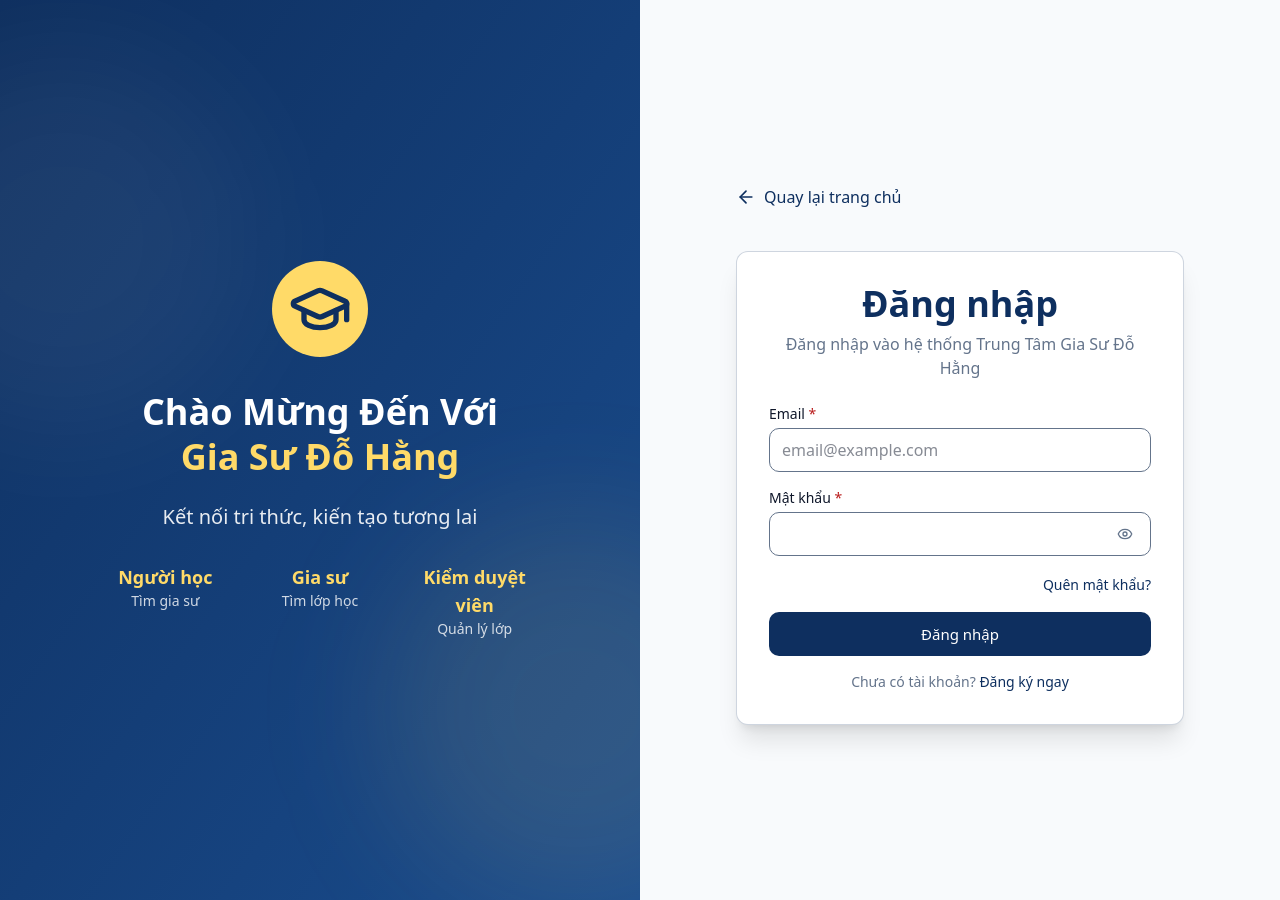
Test: sign-in › shows the server error and keeps the typed email
Type "a@example.com" into the field labelled "Email *" at (960, 450), box [769,428,1151,472]
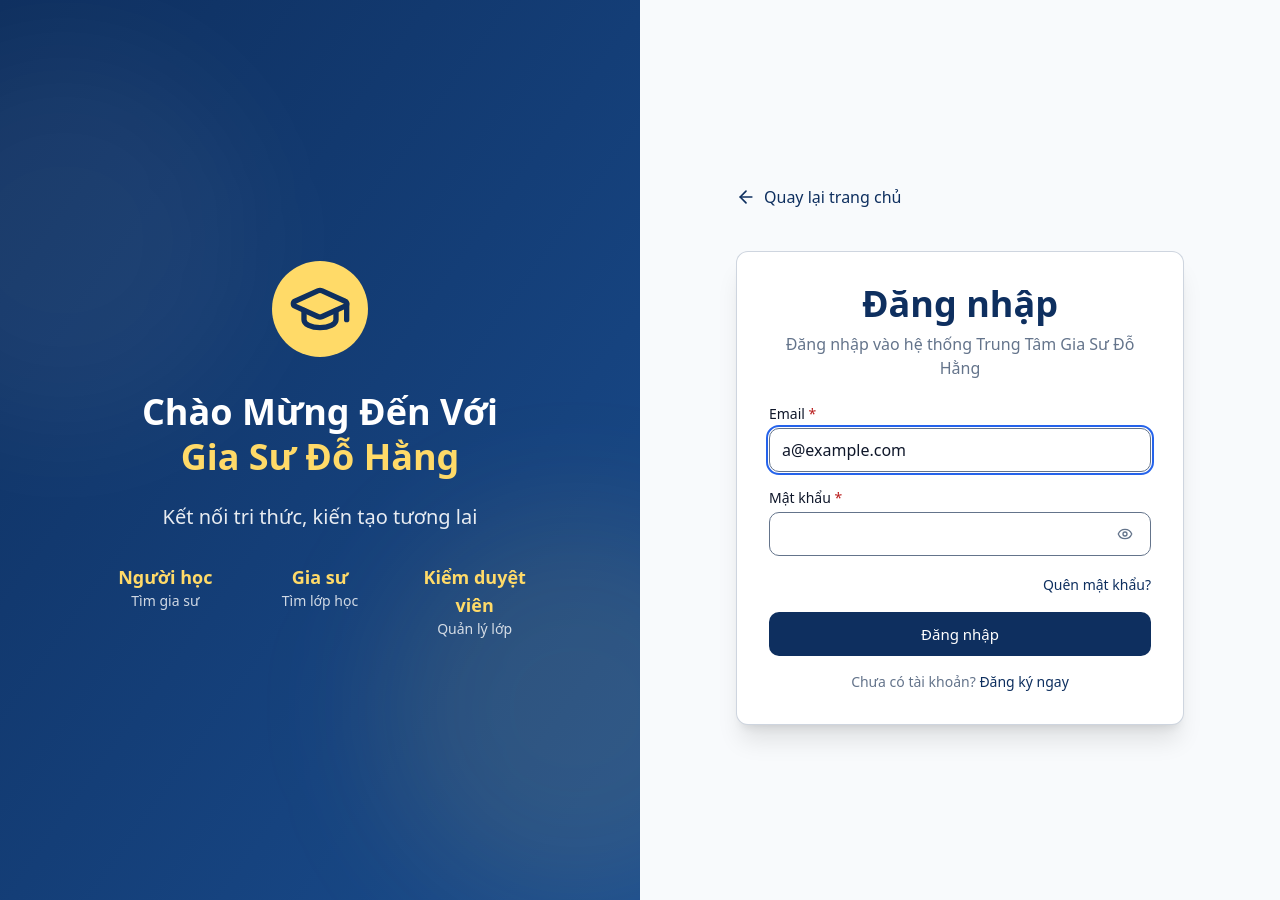
Type "wrong" into the password field labelled "Mật khẩu *" at (960, 534), box [769,512,1151,556]
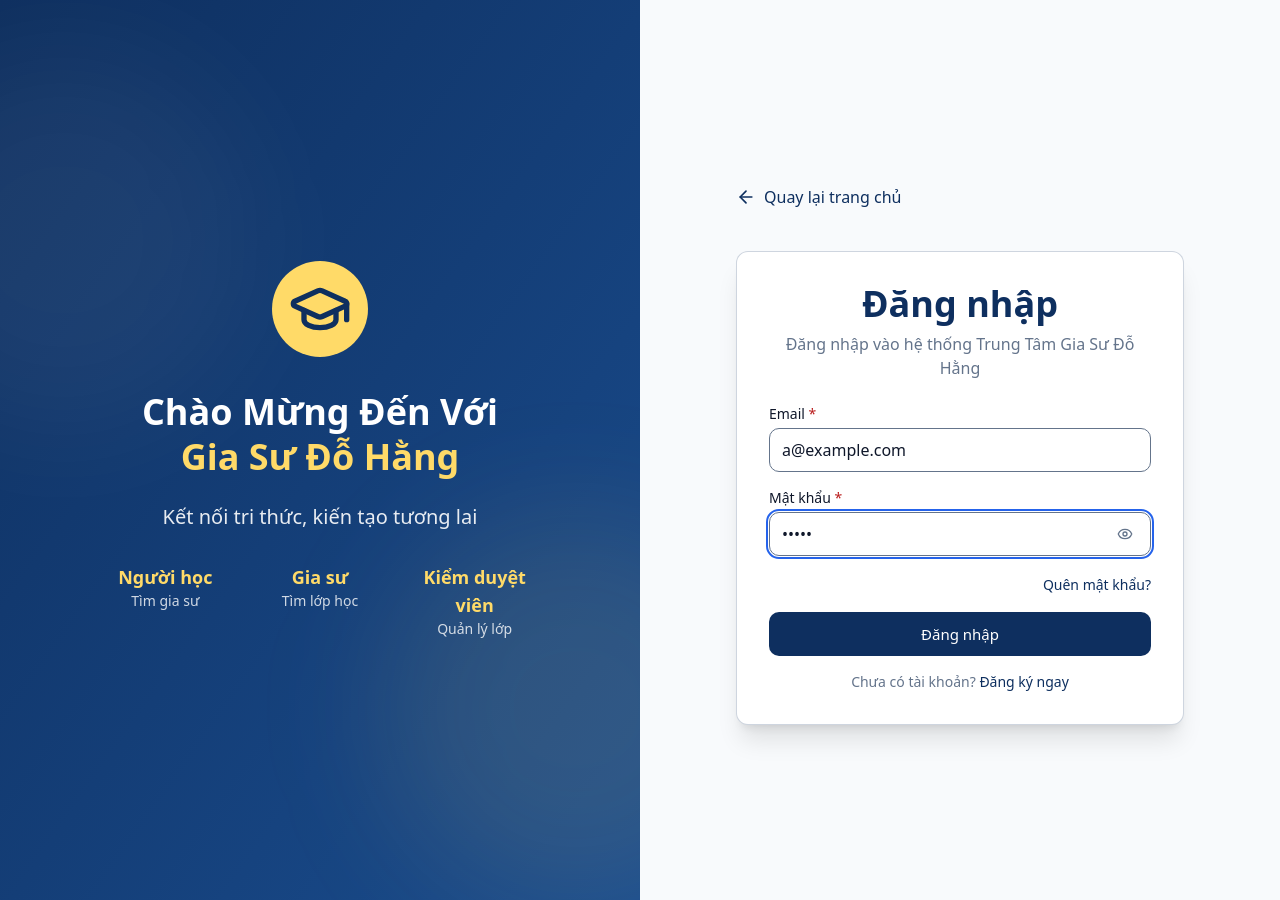
Click the button "Đăng nhập" at (960, 634), box [769,612,1151,656]
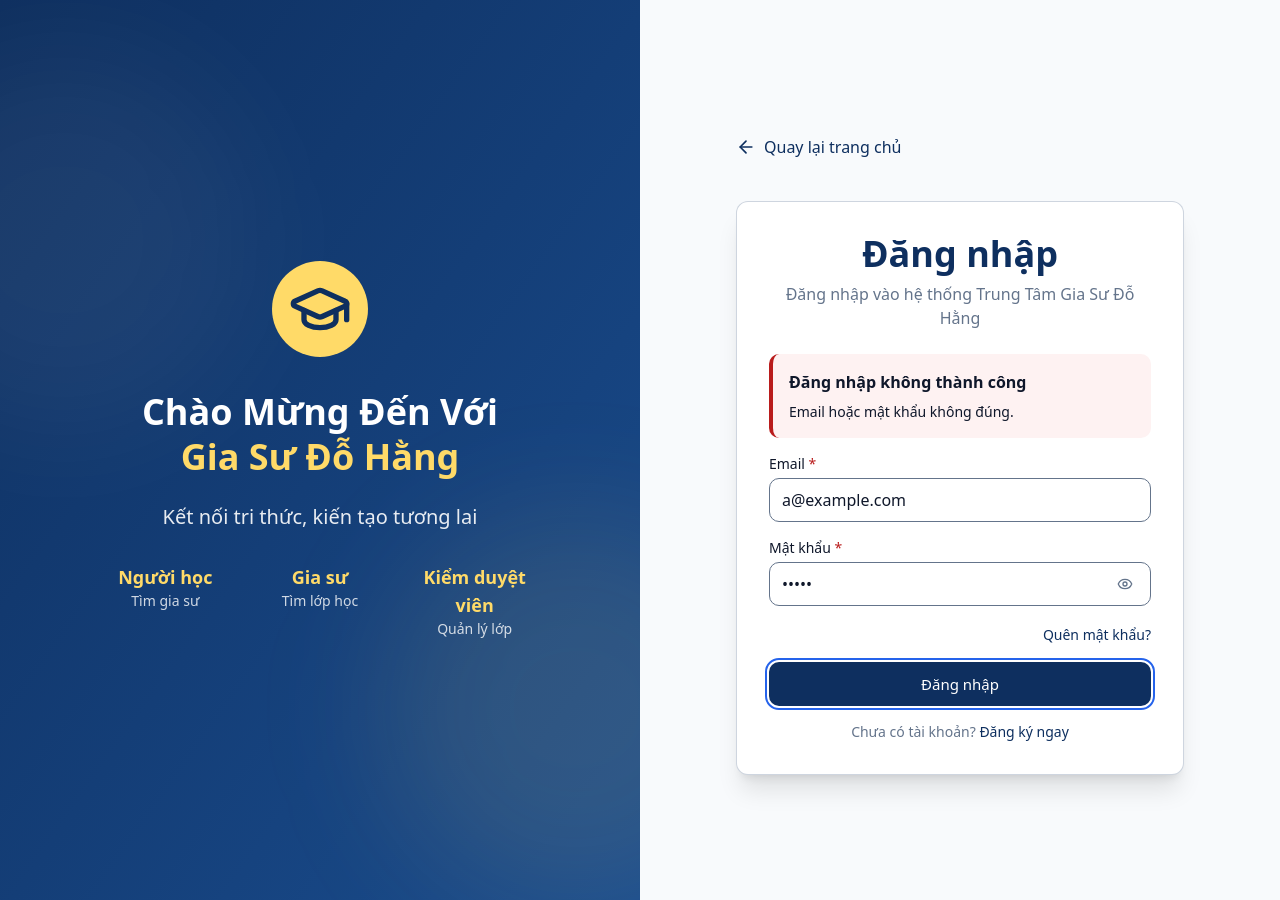
Expected: the message shows "Email hoặc mật khẩu không đúng.", [789,402,1014,421]
